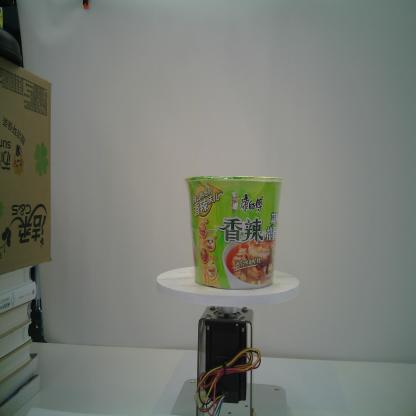Instant Noodles: (180, 171, 285, 291)
